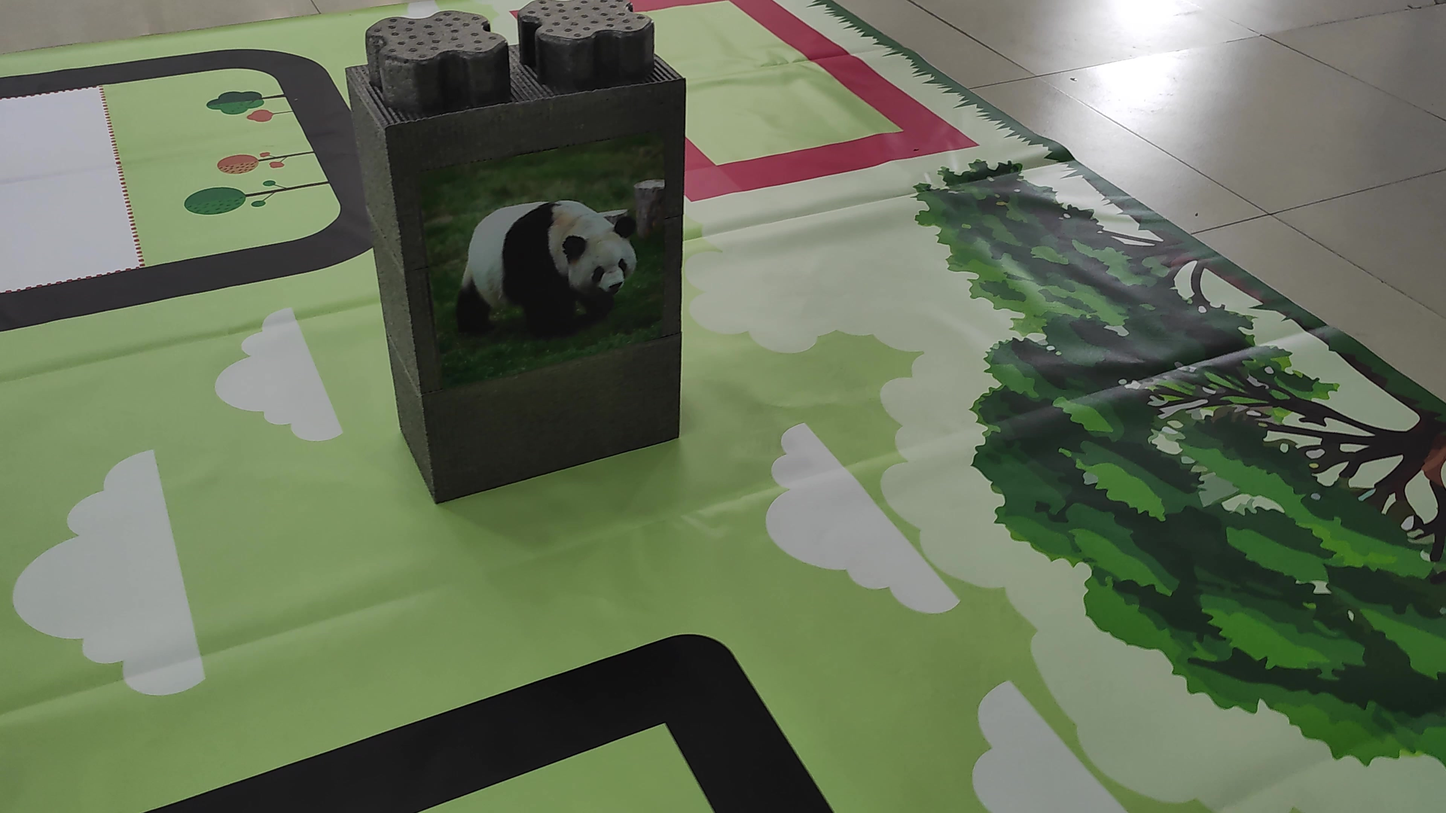panda: (438, 166, 656, 337)
